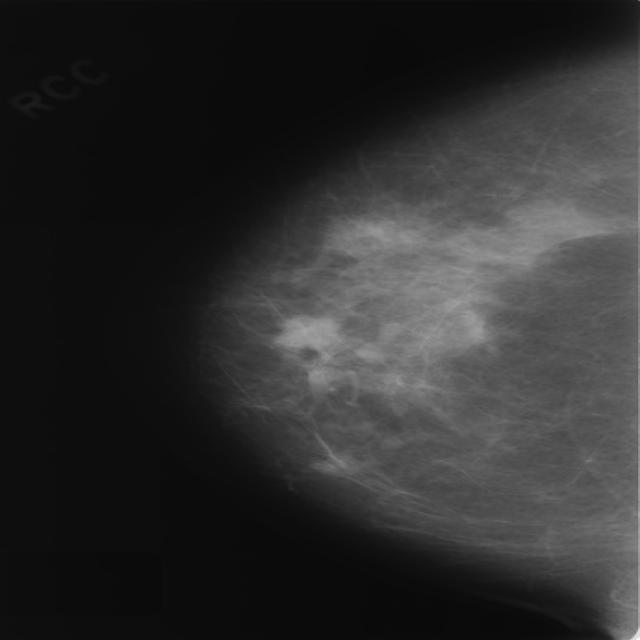tumour: (272, 314, 336, 347)
